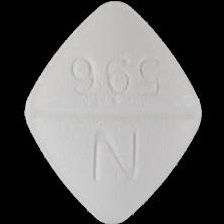63629-1355: (0, 0, 224, 224)
